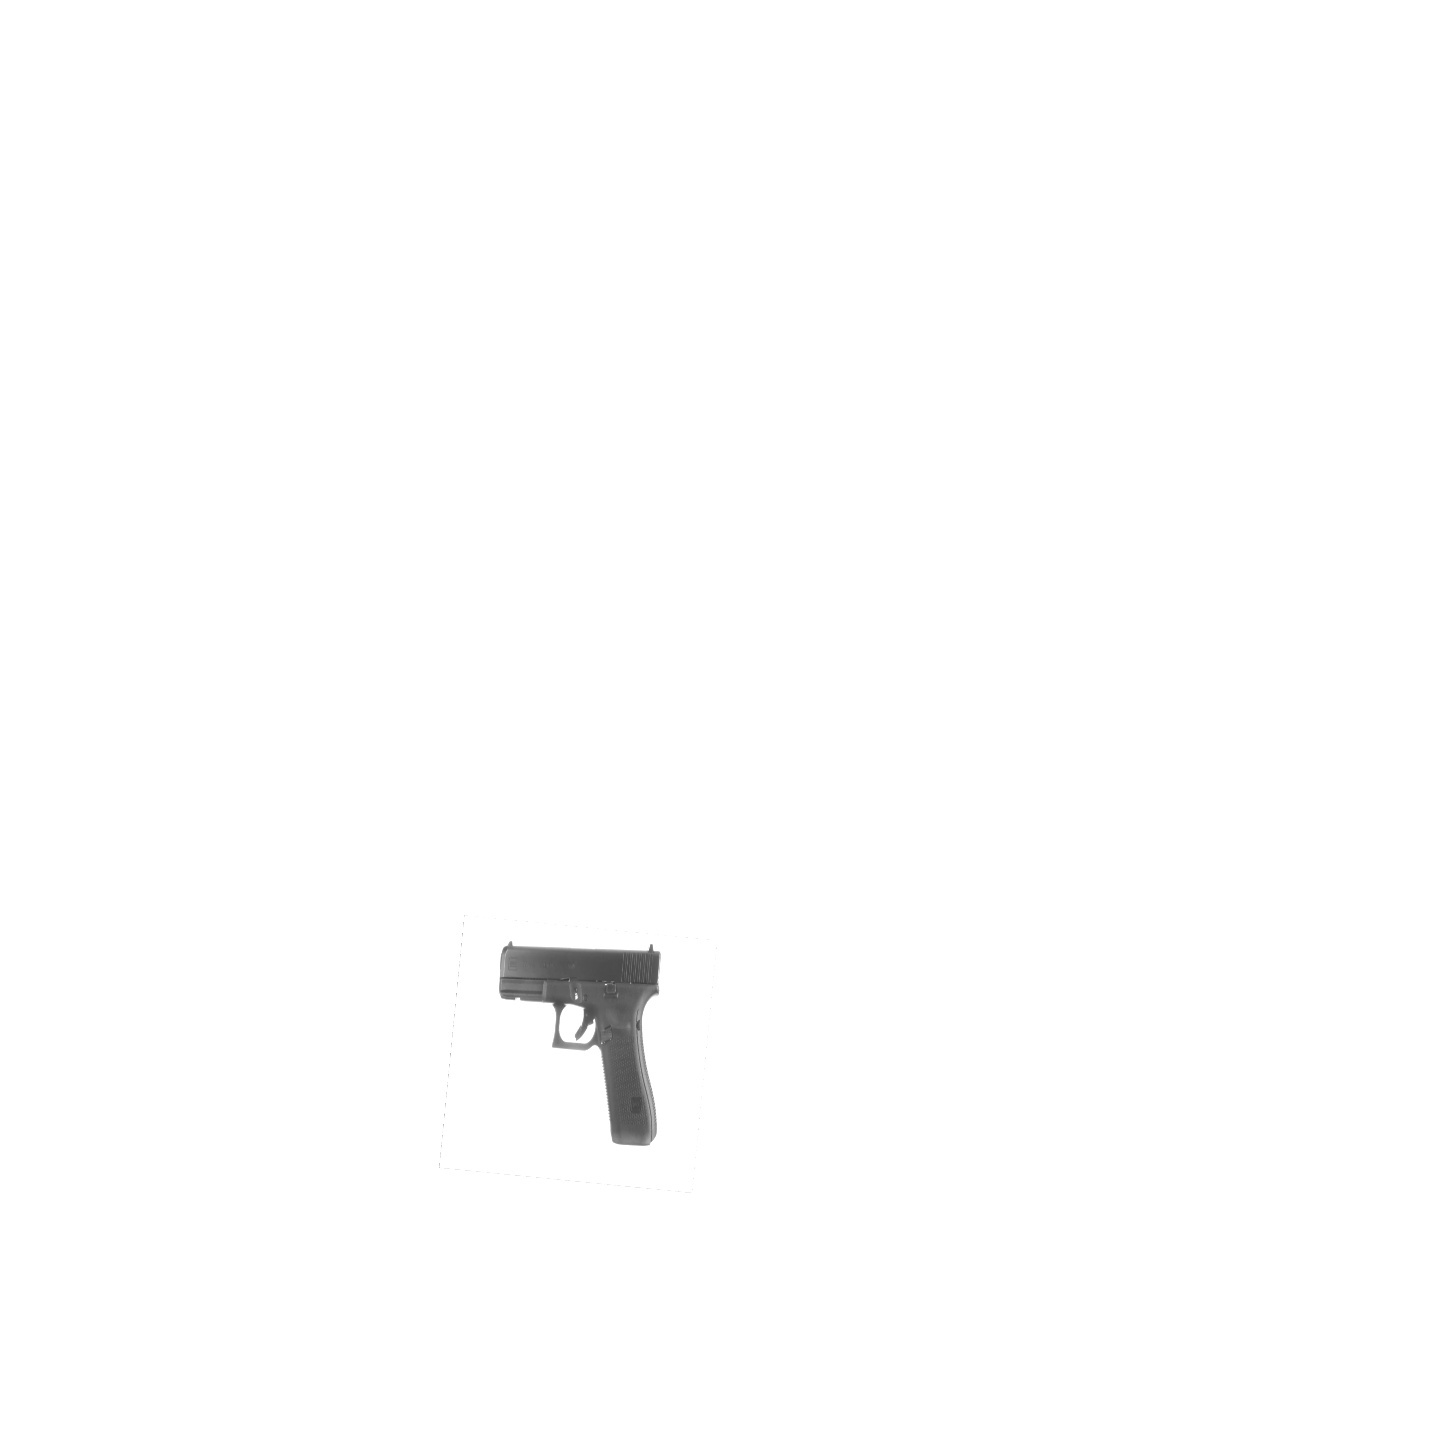gun: (482, 927, 683, 1160)
